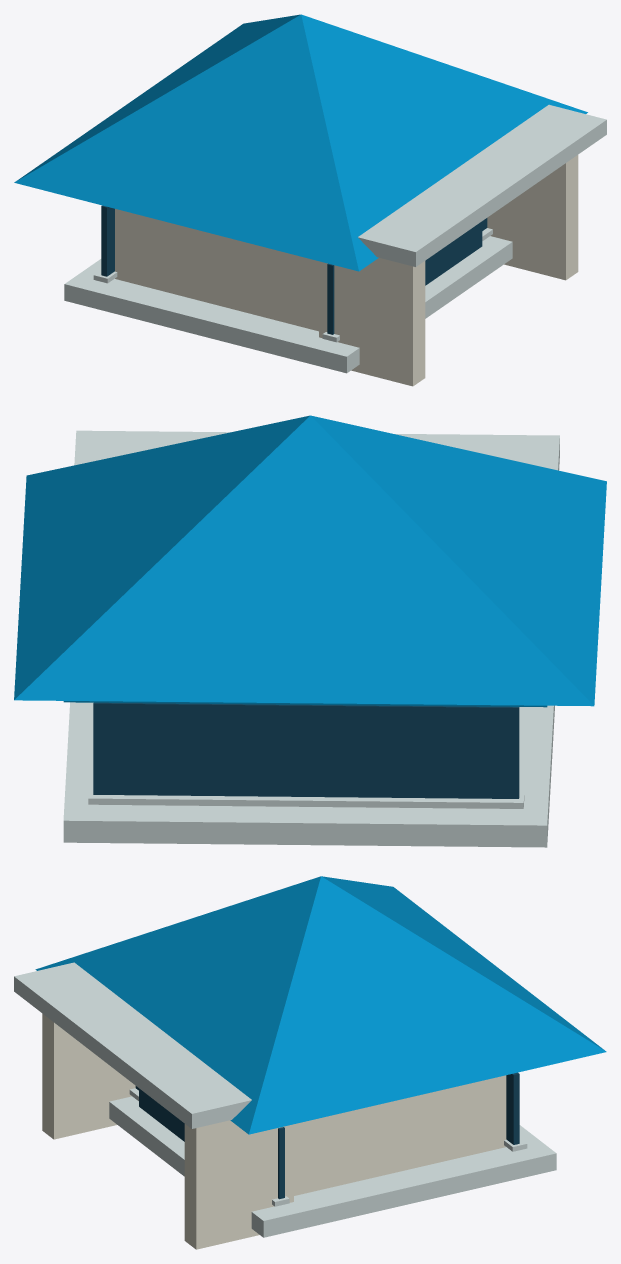
File: tempat-wudhu.glb
3 views of the same model, one above another, from view 1: azimuth 30°, elevation 25°; view 2: azimuth 150°, elevation 25°; view 3: azimuth 270°, elevation 25° (orthographic). The views are drawn at different scales.
Visible parts, largest first — view 1: Tempat_Wudhu_blue, Tempat_Wudhu_ivory, Tempat_Wudhu_trim, Tempat_Wudhu_glass; view 2: Tempat_Wudhu_blue, Tempat_Wudhu_glass, Tempat_Wudhu_trim; view 3: Tempat_Wudhu_blue, Tempat_Wudhu_ivory, Tempat_Wudhu_trim, Tempat_Wudhu_glass.
Part boxes in pixels (x1,y1,x2,y2): Tempat_Wudhu_blue: (14, 14, 587, 271); Tempat_Wudhu_ivory: (115, 155, 578, 386); Tempat_Wudhu_trim: (64, 104, 606, 373); Tempat_Wudhu_glass: (101, 205, 487, 334); Tempat_Wudhu_blue: (14, 415, 606, 707); Tempat_Wudhu_glass: (93, 702, 519, 798); Tempat_Wudhu_trim: (63, 430, 559, 847); Tempat_Wudhu_blue: (35, 876, 606, 1134); Tempat_Wudhu_ivory: (42, 1013, 506, 1249); Tempat_Wudhu_trim: (14, 962, 556, 1237); Tempat_Wudhu_glass: (135, 1072, 519, 1199).
Bounding box in the file's own units: 15.8 × 7.95 × 15.98.
